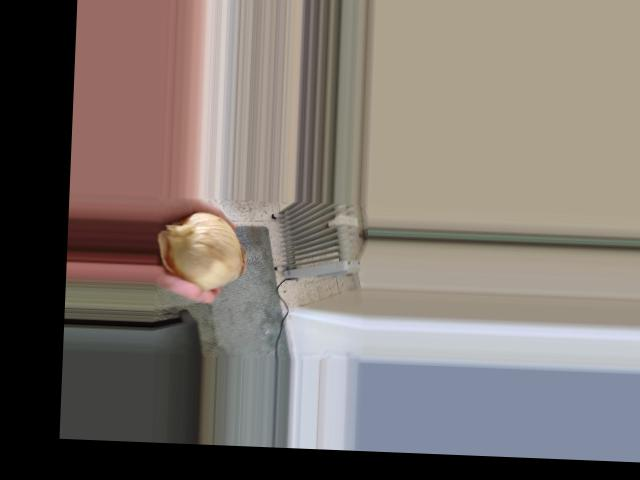onion: (161, 205, 250, 290)
